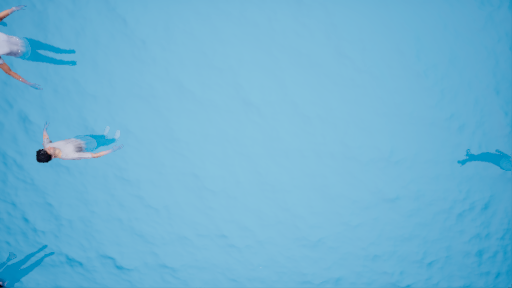person: (1, 5, 86, 95), (33, 124, 134, 166)
